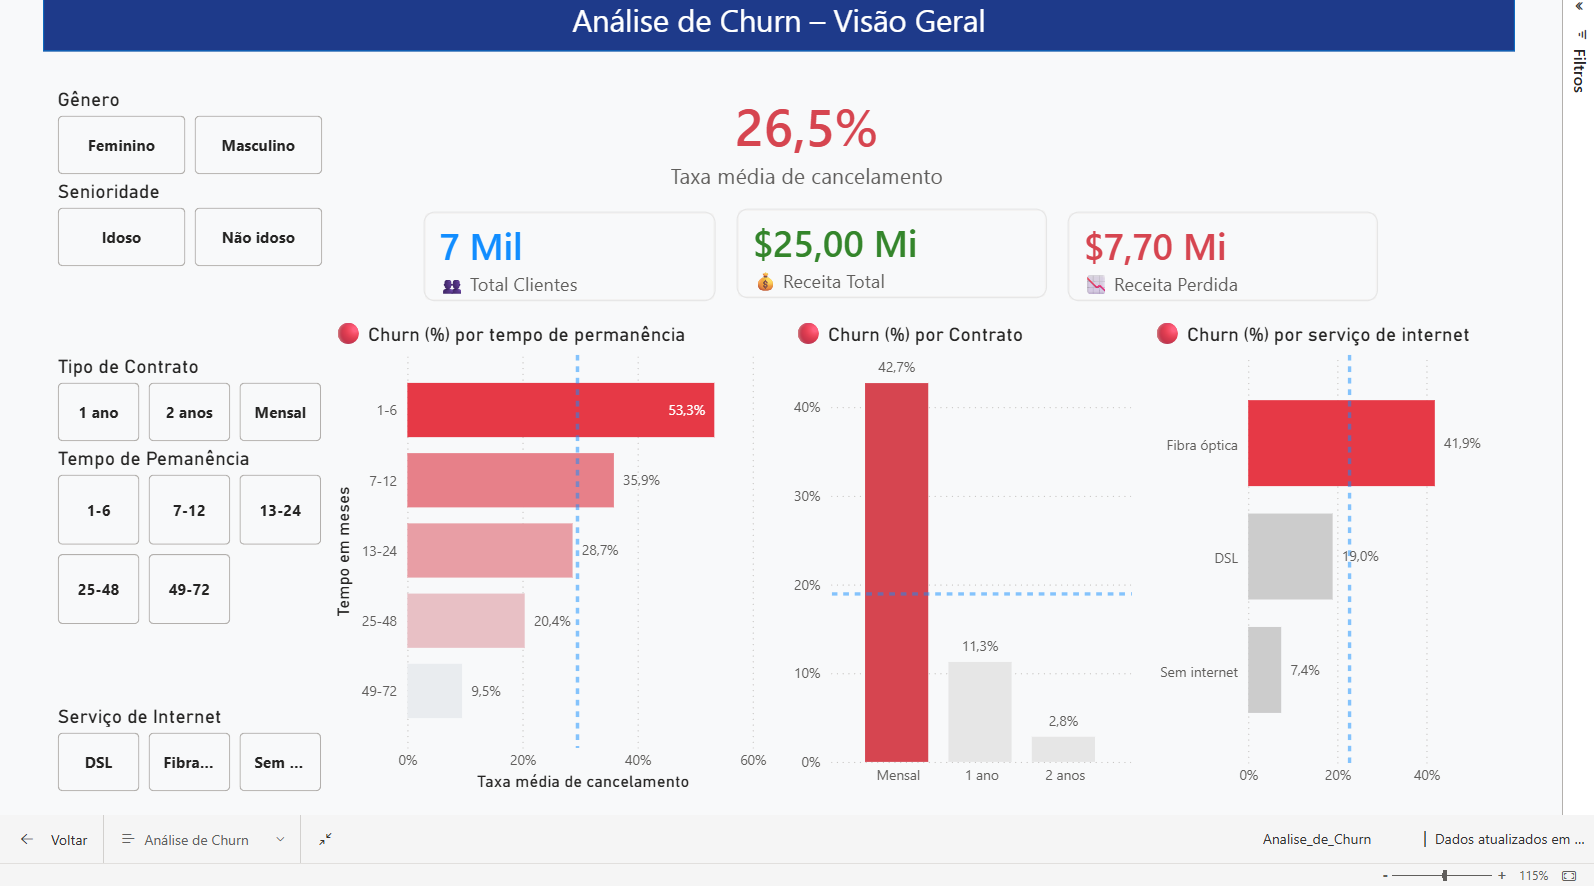

Layout of this report page (visuals, bound fields, positions):
{"tool":"powerbi","page":{"name":"Análise de Churn","canvas":[1280,720],"ordinal":0},"visuals":[{"type":"cardVisual","title":"Total de Clientes","fields":{"Data":["telco_limpo_para_powerbi.Total Clientes"]},"box":[314,178,288,112],"z":0},{"type":"cardVisual","title":"Churn (%)","fields":{"Data":["telco_limpo_para_powerbi.Churn %"]},"box":[472,72,384,120],"z":1000},{"type":"cardVisual","title":"Receita Total","fields":{"Data":["telco_limpo_para_powerbi.Receita Total"]},"box":[586,176,304,112],"z":2000},{"type":"cardVisual","title":"Receita Perdida","fields":{"Data":["telco_limpo_para_powerbi.Receita Perdida"]},"box":[874,178,304,112],"z":3000},{"type":"clusteredColumnChart","title":"🔴 Churn (%) por Contrato","fields":{"Category":["telco_limpo_para_powerbi.Contrato_PT"],"Y":["telco_limpo_para_powerbi.Churn %"]},"box":[648,288,304,416],"z":4000},{"type":"clusteredBarChart","title":"🔴 Churn (%) por tempo de permanência","fields":{"Category":["telco_limpo_para_powerbi.tenure_band"],"Y":["telco_limpo_para_powerbi.🔴 Churn (%)"]},"box":[248,288,392,416],"z":5000},{"type":"clusteredBarChart","title":"🔴 Churn (%) por serviço de internet","fields":{"Category":["telco_limpo_para_powerbi.Internet_PT"],"Y":["telco_limpo_para_powerbi.🔴 Churn (%)"]},"box":[960,288,312,416],"z":6000},{"type":"shape","box":[0,0,1280,56],"z":7000},{"type":"advancedSlicerVisual","fields":{"Values":["telco_limpo_para_powerbi.Contrato_PT"]},"box":[8,320,240,80],"z":8000},{"type":"advancedSlicerVisual","fields":{"Values":["telco_limpo_para_powerbi.Internet_PT"]},"box":[8,624,240,80],"z":9000},{"type":"advancedSlicerVisual","fields":{"Values":["telco_limpo_para_powerbi.Genero_PT"]},"box":[8,88,240,80],"z":10000},{"type":"advancedSlicerVisual","fields":{"Values":["telco_limpo_para_powerbi.tenure_band_novo"]},"box":[8,400,240,160],"z":11000},{"type":"advancedSlicerVisual","fields":{"Values":["telco_limpo_para_powerbi.Senior_PT"]},"box":[8,168,240,80],"z":12000}]}

Visuals, with their boxes on the page's 1280x720 design canvas (x1, y1, x2, y2). These are canvas units, not pixel positions in the 1594x886 screenshot, which may show the page scaled, cropped or inside an application window:
"Total de Clientes" cardVisual: [314, 178, 602, 290]
"Churn (%)" cardVisual: [472, 72, 856, 192]
"Receita Total" cardVisual: [586, 176, 890, 288]
"Receita Perdida" cardVisual: [874, 178, 1178, 290]
"🔴 Churn (%) por Contrato" clusteredColumnChart: [648, 288, 952, 704]
"🔴 Churn (%) por tempo de permanência" clusteredBarChart: [248, 288, 640, 704]
"🔴 Churn (%) por serviço de internet" clusteredBarChart: [960, 288, 1272, 704]
shape: [0, 0, 1280, 56]
advancedSlicerVisual - telco_limpo_para_powerbi.Contrato_PT: [8, 320, 248, 400]
advancedSlicerVisual - telco_limpo_para_powerbi.Internet_PT: [8, 624, 248, 704]
advancedSlicerVisual - telco_limpo_para_powerbi.Genero_PT: [8, 88, 248, 168]
advancedSlicerVisual - telco_limpo_para_powerbi.tenure_band_novo: [8, 400, 248, 560]
advancedSlicerVisual - telco_limpo_para_powerbi.Senior_PT: [8, 168, 248, 248]
